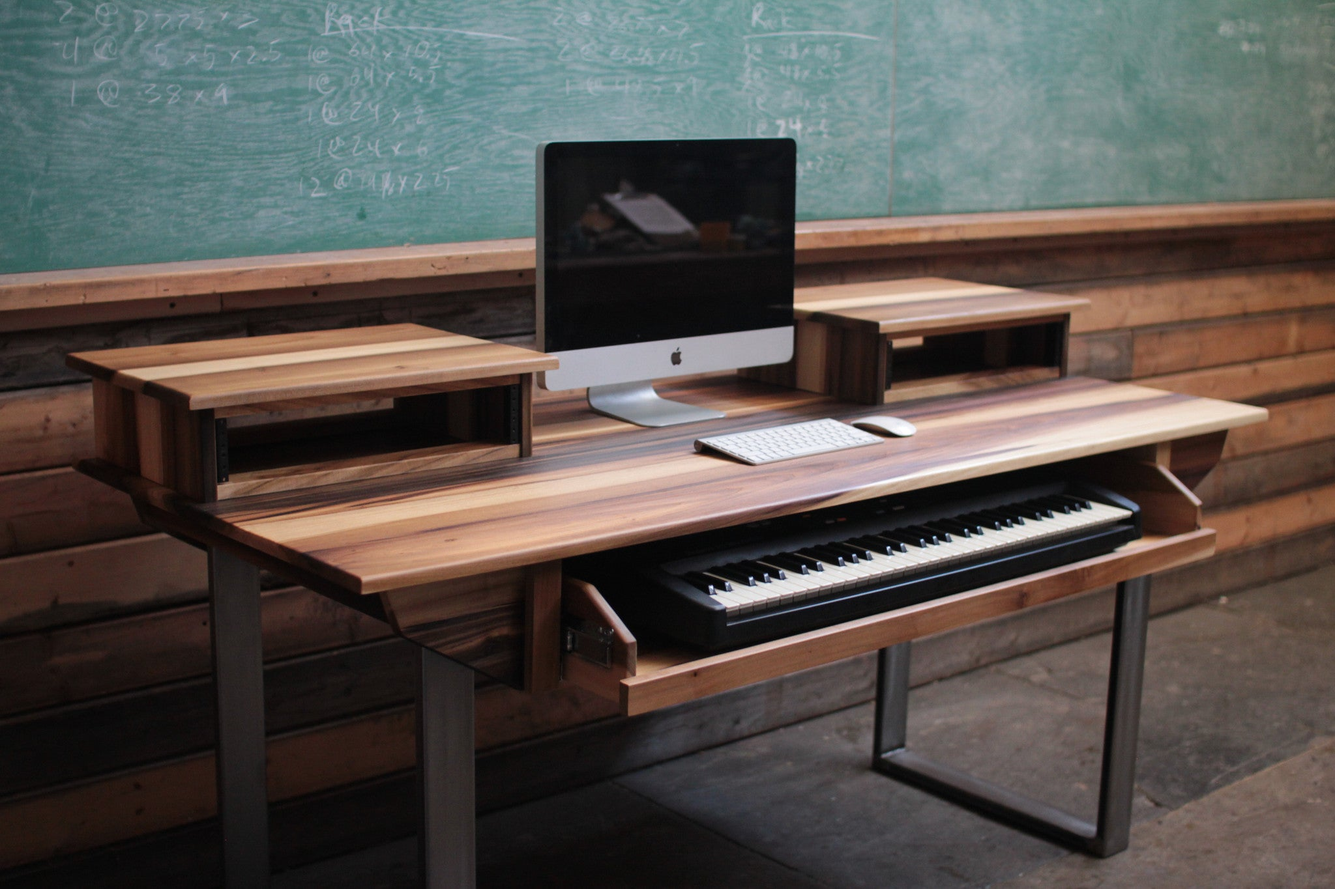not a gesture sign: (135, 377, 1265, 713)
